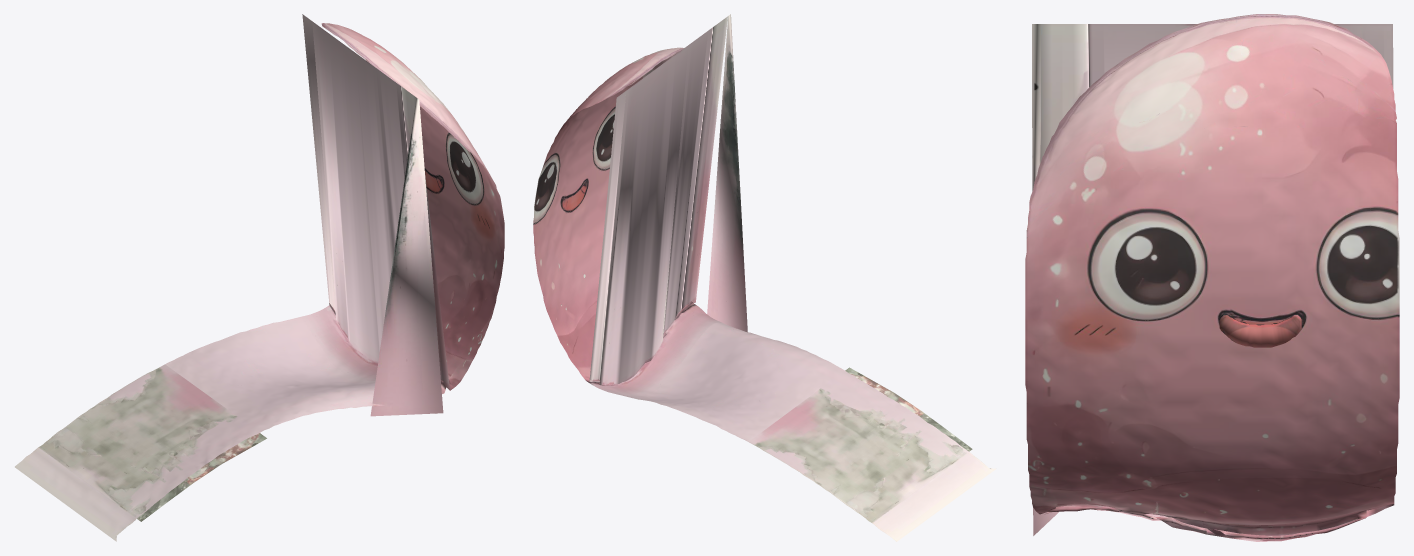
File: pbr_model.glb
3 renders of one model, left to right at view 1: azimuth 30°, elevation 25°; view 2: azimuth 150°, elevation 25°; view 3: azimuth 270°, elevation 25°, orthographic. The views are drawn at different scales.
Visible parts, largest first — view 1: tripo_node_0c7b528e-3151-418a-9076-297d7d095dab; view 2: tripo_node_0c7b528e-3151-418a-9076-297d7d095dab; view 3: tripo_node_0c7b528e-3151-418a-9076-297d7d095dab.
Part boxes in pixels (bbox=[...]): tripo_node_0c7b528e-3151-418a-9076-297d7d095dab: bbox=[15, 14, 504, 541]; tripo_node_0c7b528e-3151-418a-9076-297d7d095dab: bbox=[533, 14, 996, 541]; tripo_node_0c7b528e-3151-418a-9076-297d7d095dab: bbox=[1025, 14, 1399, 541].
Size of the model in its own units: 0.998 by 0.9785 by 0.5527.
1 material, 1 textured.
